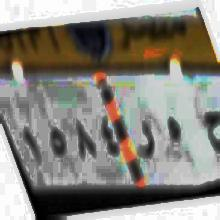1: (24, 116, 43, 174)
4: (101, 115, 121, 163)
5: (48, 121, 66, 166)
8: (76, 114, 96, 168)
haa: (167, 106, 183, 150)
raa: (136, 117, 156, 168)
